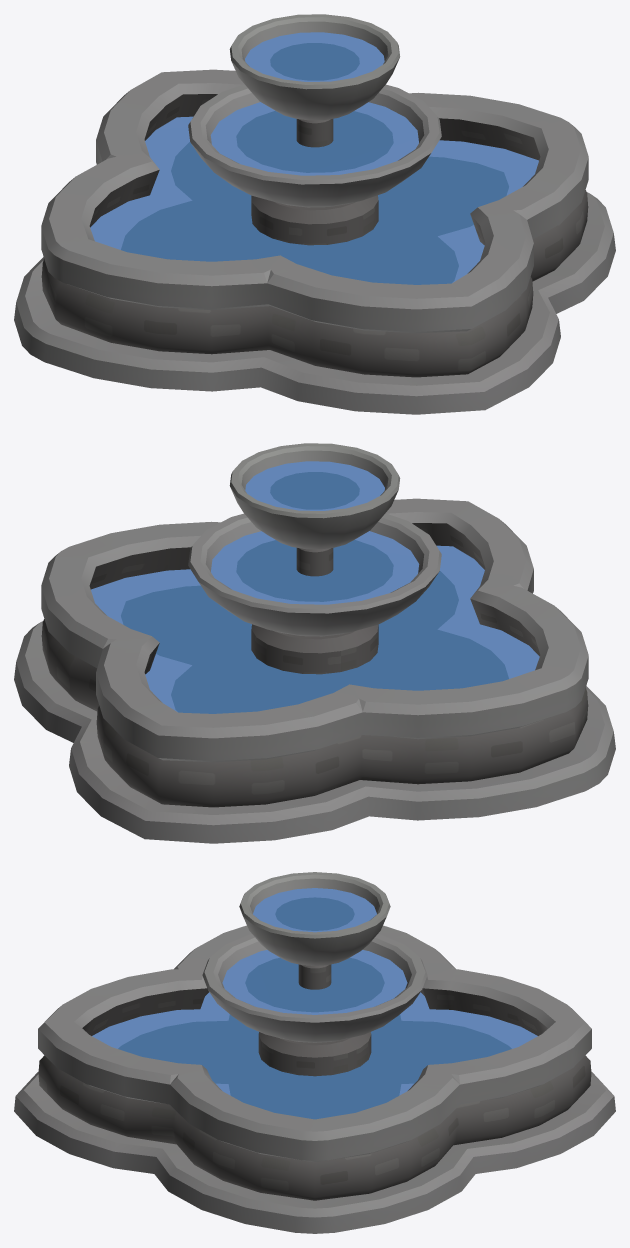
Rendered from Fountain_1_1.glb.
3 renders of one model, top to bottom at view 1: azimuth 30°, elevation 25°; view 2: azimuth 150°, elevation 25°; view 3: azimuth 270°, elevation 25°, orthographic. The views are drawn at different scales.
Visible parts, largest first — view 1: Fountain_1_1; view 2: Fountain_1_1; view 3: Fountain_1_1.
Boxes of the visible parts, x1,y1,x2,y2 form: Fountain_1_1: (14,14,615,414); Fountain_1_1: (14,443,615,843); Fountain_1_1: (14,872,615,1233).
Bounding box in the file's own units: 3.81 × 1.51 × 3.96.
3 materials, 3 textured.
